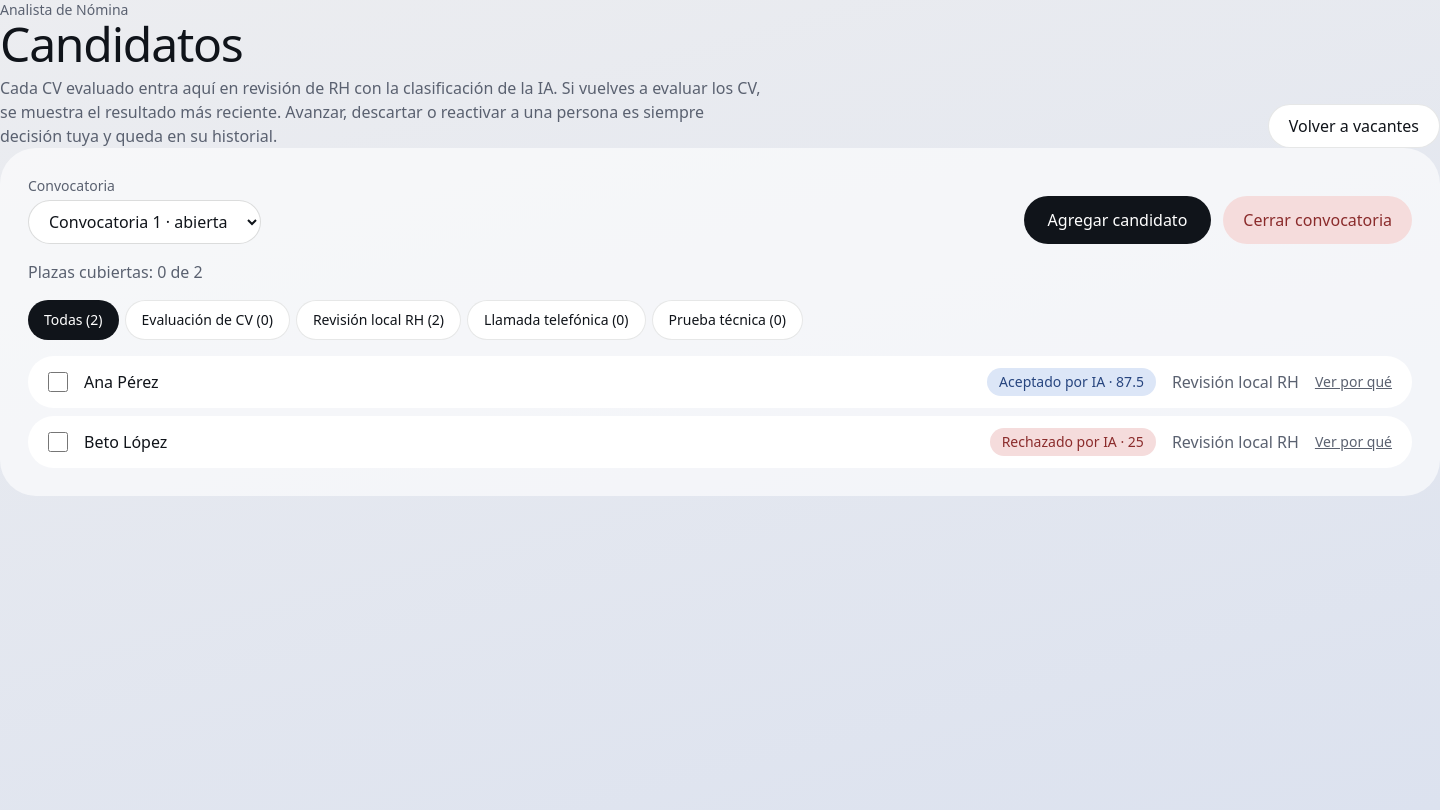
CandidatesWorkspace › agrega un candidato a mano y cierra la convocatoria
Click the button "Agregar candidato": (1118, 220) x1=1024 y1=196 x2=1211 y2=244
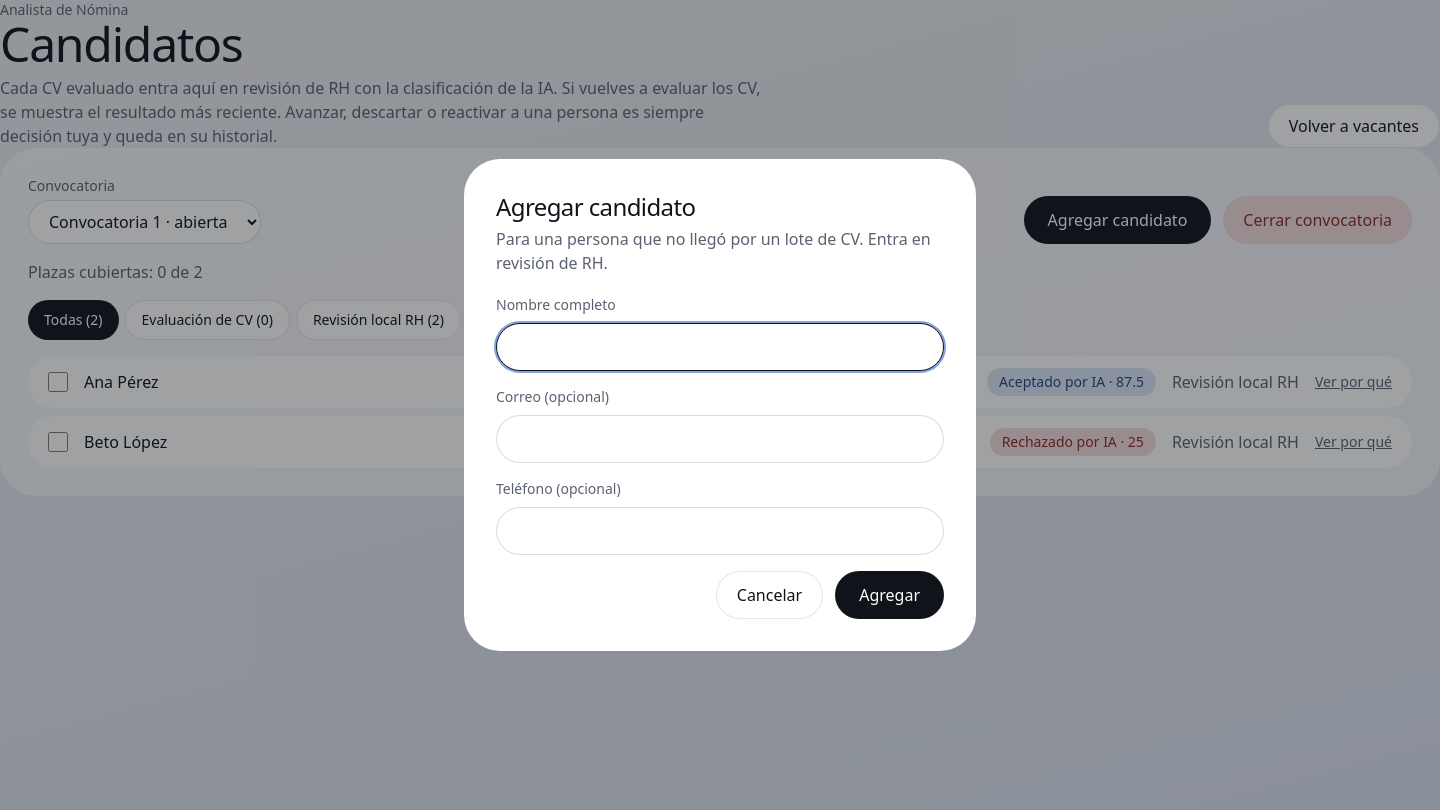
In the field labelled "Nombre completo": (720, 347) x1=496 y1=323 x2=944 y2=371, type "Carla Ruiz"
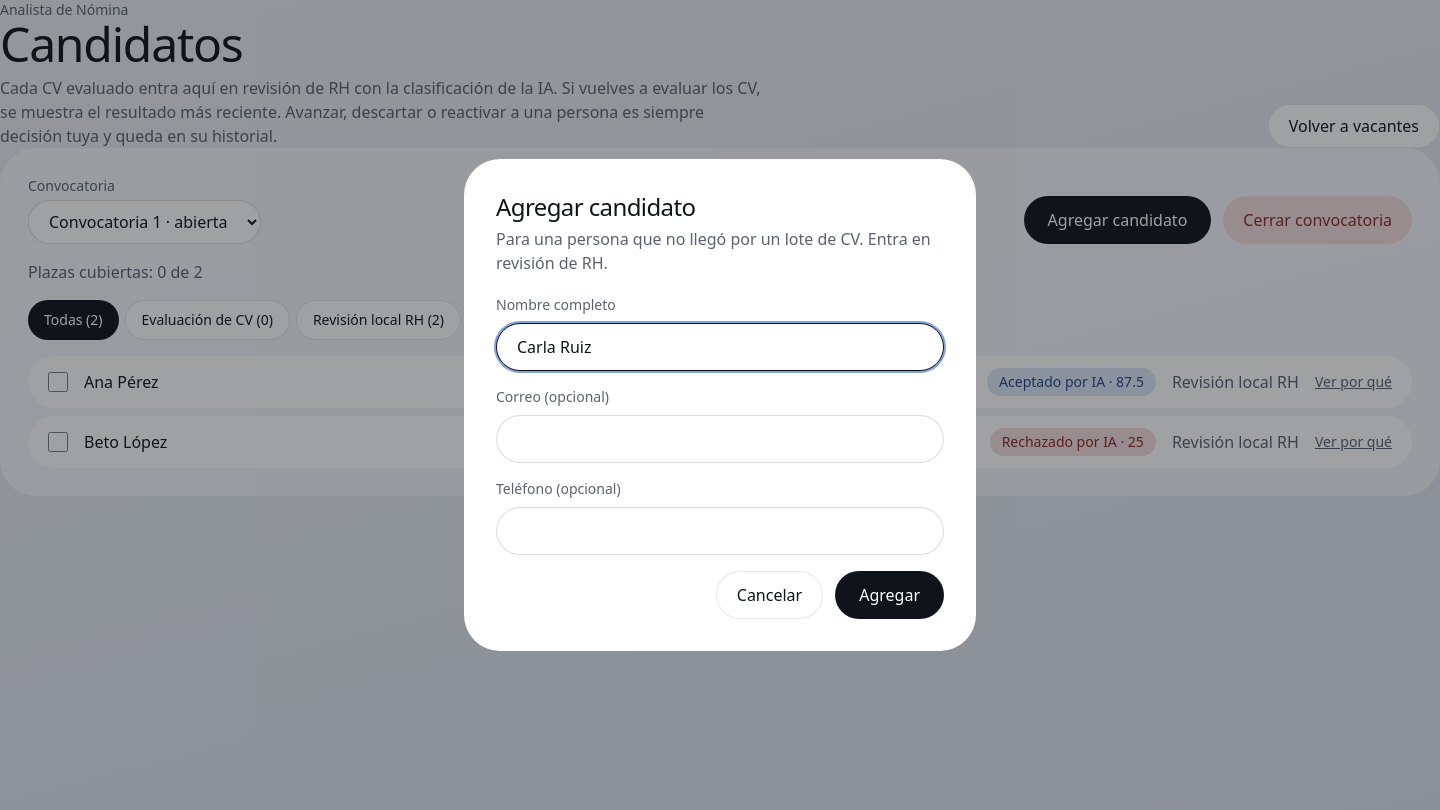
In the field labelled "Correo (opcional)": (720, 439) x1=496 y1=415 x2=944 y2=463, type "carla@ejemplo.test"
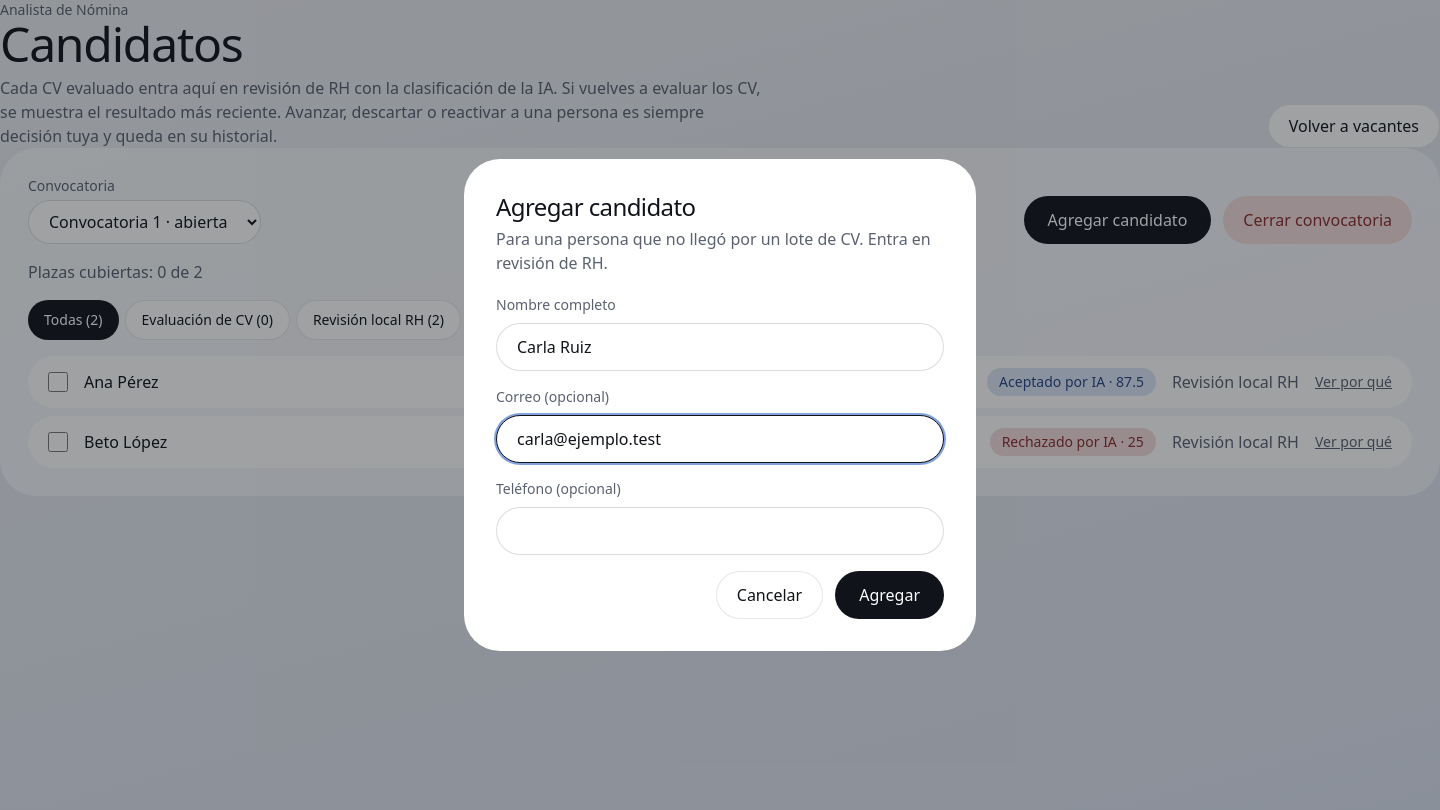
Click the button "Agregar": (890, 595) x1=835 y1=571 x2=944 y2=619
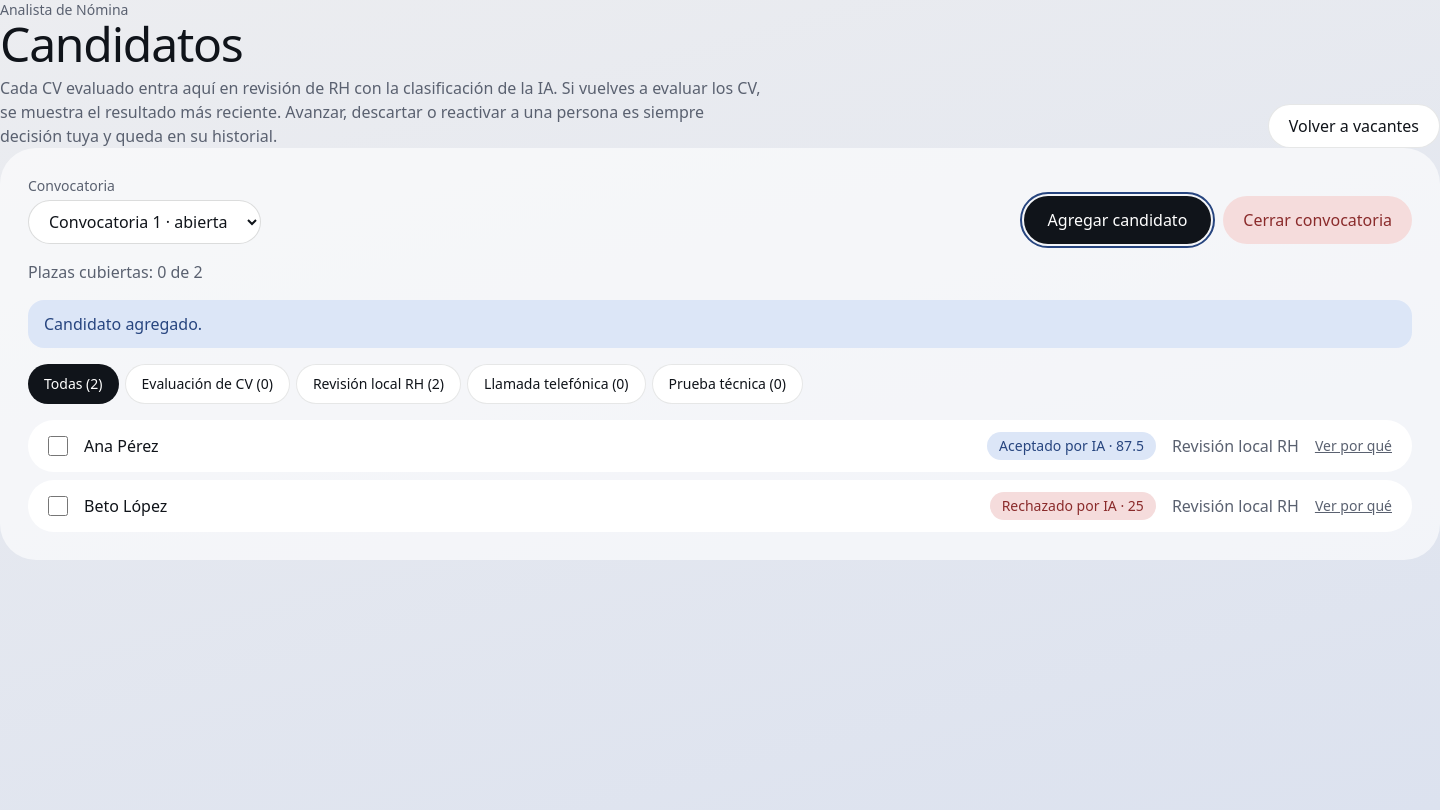
Now the message shows "Candidato agregado", box x1=44 y1=313 x2=202 y2=335
Click the button "Cerrar convocatoria": (1318, 220) x1=1223 y1=196 x2=1412 y2=244
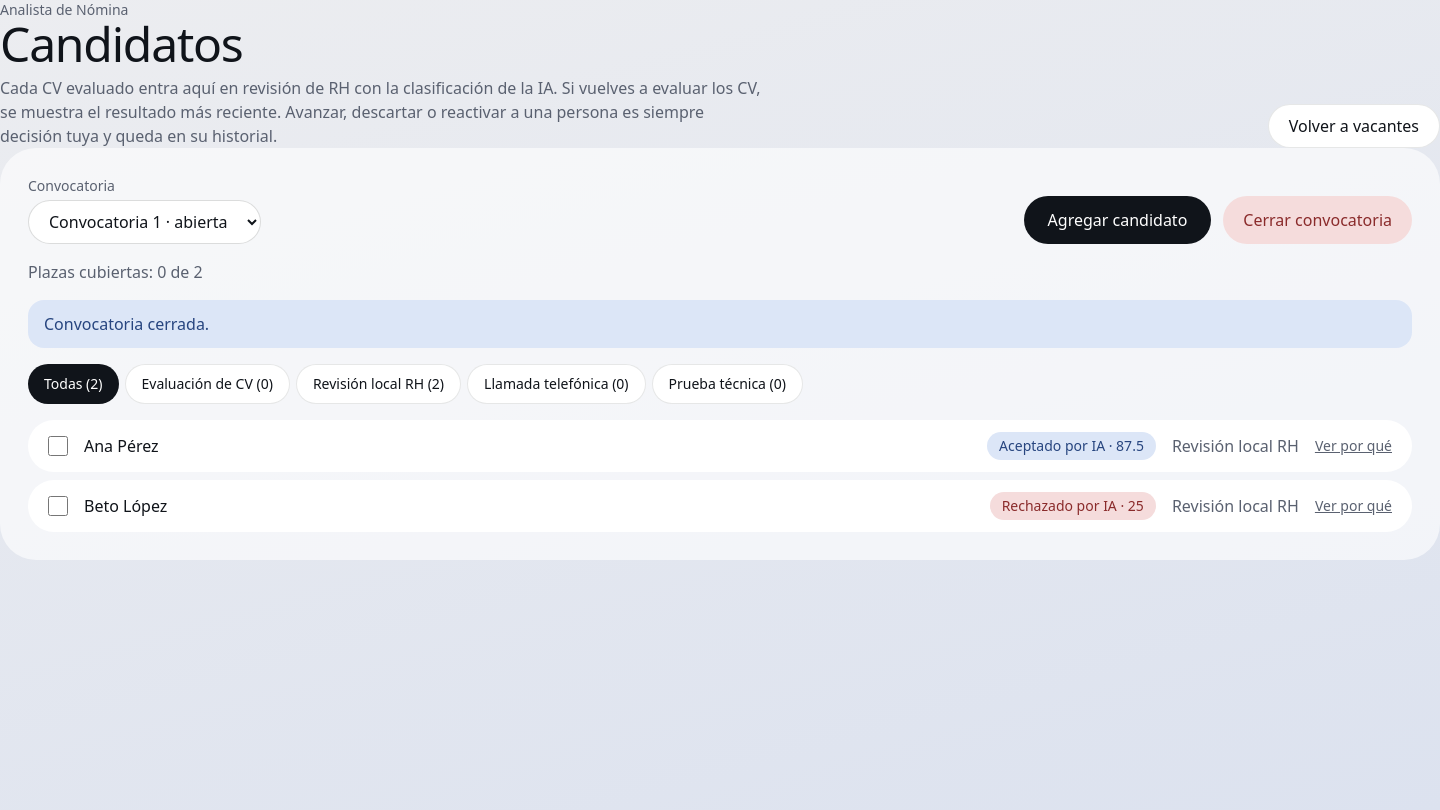
Now the message shows "Convocatoria cerrada", box x1=44 y1=313 x2=209 y2=335
